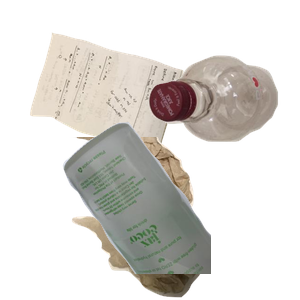glass: (60, 120, 300, 300)
paper: (27, 30, 203, 178)
plastic: (146, 53, 300, 187)
trash: (66, 137, 263, 300)
